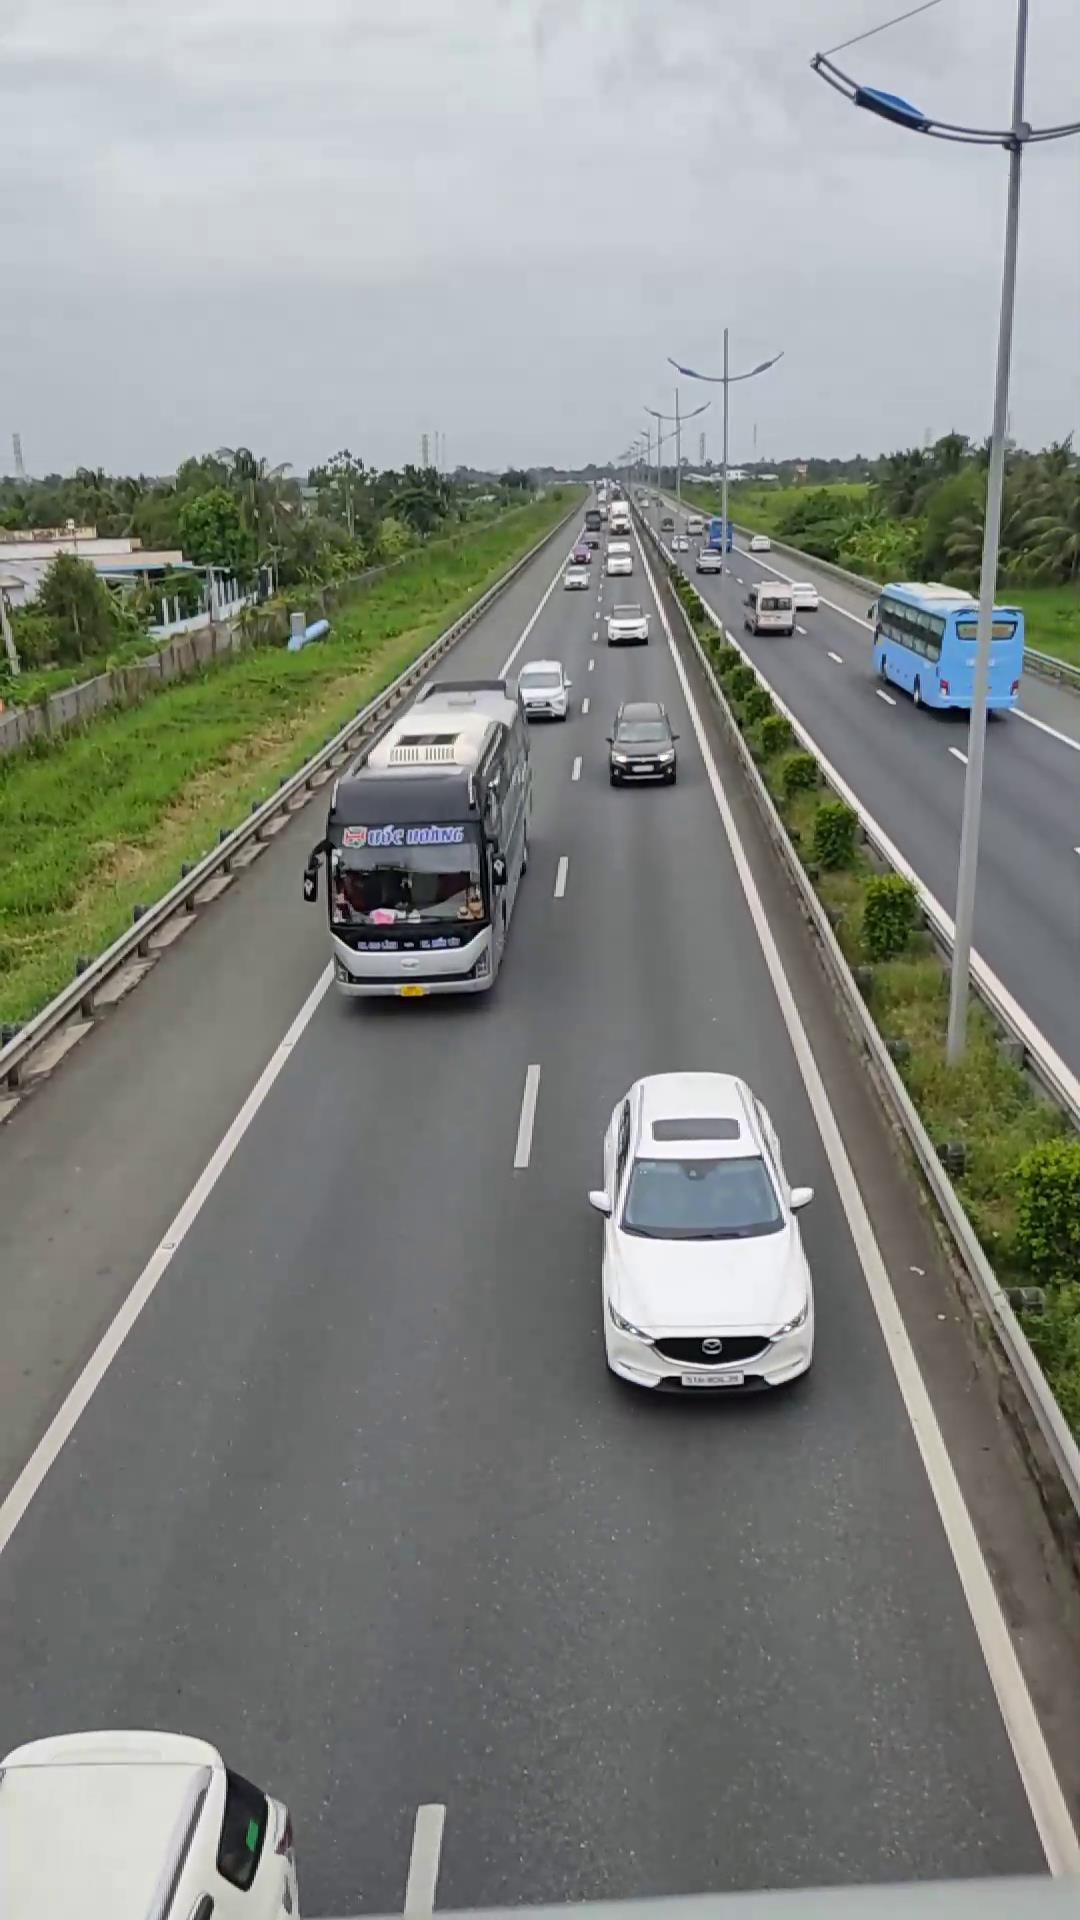bus: (313, 686, 531, 1000)
car: (588, 1068, 822, 1399), (604, 700, 679, 785), (506, 658, 576, 720)
